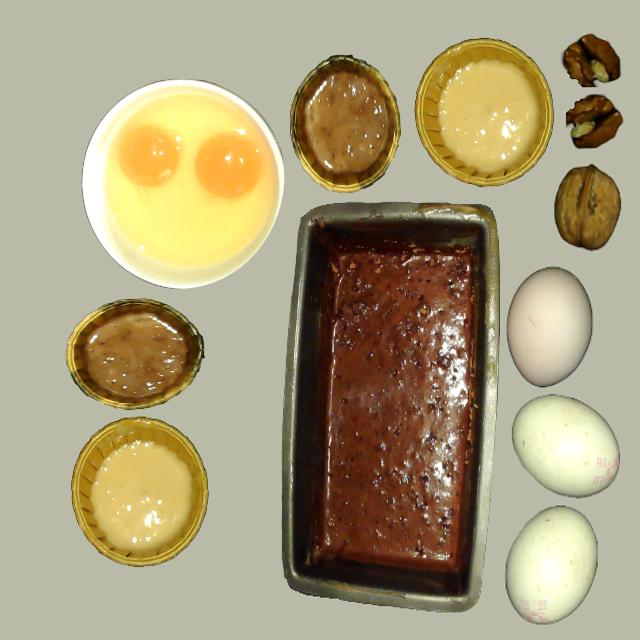Egg: (195, 133, 261, 199), (118, 125, 182, 189)
Walnut: (554, 166, 620, 249)
